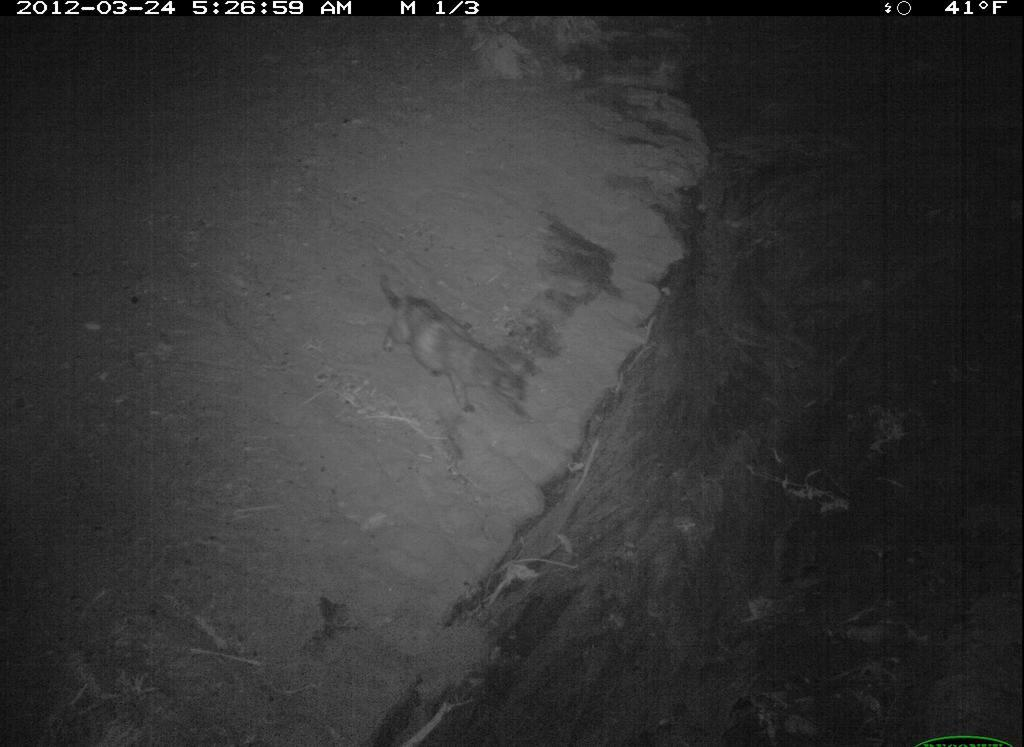cat: (370, 263, 548, 429)
